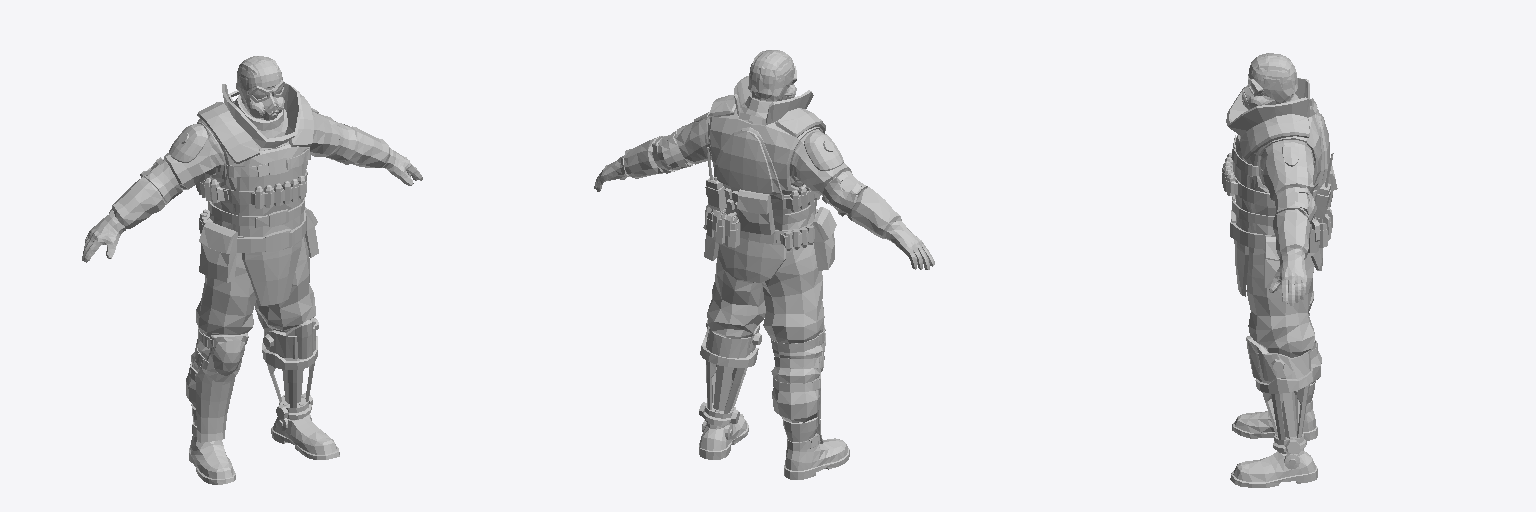
The model's file is Beltway Model.obj.
The picture shows the model from 3 angles: view 1: azimuth 30°, elevation 25°; view 2: azimuth 150°, elevation 25°; view 3: azimuth 270°, elevation 25°; orthographic projection.
Parts seen in each view (by area): view 1: 3, 2, 0; view 2: 3, 2, 0, 8; view 3: 3, 2, 0, 8.
Boxes of the visible parts, x1,y1,x2,y2 form: 3: [82, 83, 422, 305]; 2: [186, 236, 339, 484]; 0: [236, 56, 284, 119]; 3: [594, 76, 934, 282]; 2: [699, 243, 849, 479]; 0: [748, 50, 796, 100]; 8: [749, 50, 793, 102]; 3: [1222, 78, 1337, 305]; 2: [1230, 247, 1321, 487]; 0: [1241, 54, 1297, 109]; 8: [1242, 53, 1297, 109].
Size of the model in its own units: 1.66 by 1.88 by 0.4903.